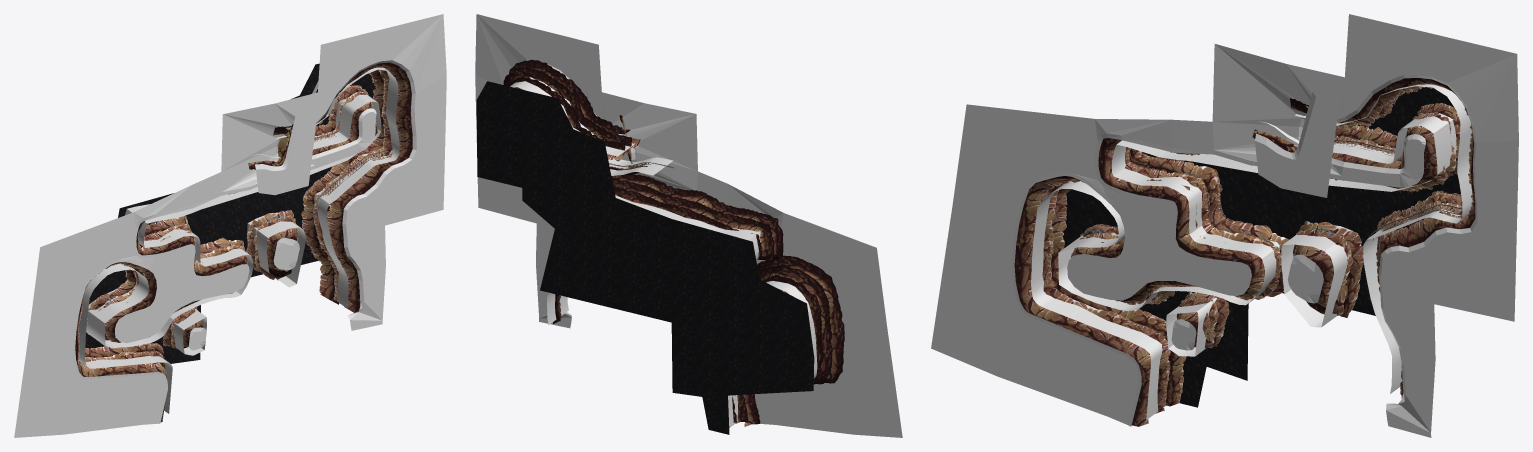
The model's file is Lvl 9 Pt 2.FBX.
3 views of the same model, side by side, from view 1: azimuth 30°, elevation 25°; view 2: azimuth 150°, elevation 25°; view 3: azimuth 330°, elevation 25° (orthographic). The views are drawn at different scales.
Visible parts, largest first — view 1: Black LVL pt 2_2, Black LVL pt 2_1, Lvl 9 Col Pt 2, BG Lvl 9 Mines Pt 2_1, Rock Pt 2_6 FG, Black LVL pt 2 Mines Ext, Rock Pt 2_6 BG, BG Lvl 9 Mines Pt 2_2, Rock Pt 2_6, Rock Pt 2_3 FG, Rock Pt 2_2 FG, Rock Pt 2_5 (+12 smaller); view 2: BG Lvl 9 Mines Pt 2_1, BG Lvl 9 Mines Pt 2_2, Black LVL pt 2_2, Black LVL pt 2_1, Lvl 9 Col Pt 2, Rock Pt 2_2 FG, Rock Pt 2_2, Rock Pt 2_3, Rock Pt 2_3 FG, Rock Pt 2_6, Rock Pt 2_6 FG, Rock Pt 2_6 BG (+6 smaller); view 3: Black LVL pt 2_2, Black LVL pt 2_1, Lvl 9 Col Pt 2, BG Lvl 9 Mines Pt 2_1, BG Lvl 9 Mines Pt 2_2, Black LVL pt 2 Mines Ext, Rock Pt 2_3 FG, Rock Pt 2_6 FG, Rock Pt 2_3 BG, Rock Pt 2_2 FG, Rock Pt 2_4 FG, Rock Pt 2_5 BG (+12 smaller).
Part boxes in pixels (x1=…): Black LVL pt 2_2: x1=14, y1=172, x2=249, y2=437; Black LVL pt 2_1: x1=221, y1=14, x2=446, y2=330; Lvl 9 Col Pt 2: x1=78, y1=67, x2=399, y2=413; BG Lvl 9 Mines Pt 2_1: x1=201, y1=63, x2=375, y2=277; Rock Pt 2_6 FG: x1=273, y1=62, x2=412, y2=312; Black LVL pt 2 Mines Ext: x1=255, y1=114, x2=316, y2=195; Rock Pt 2_6 BG: x1=301, y1=70, x2=385, y2=304; BG Lvl 9 Mines Pt 2_2: x1=85, y1=193, x2=201, y2=363; Rock Pt 2_6: x1=313, y1=69, x2=392, y2=300; Rock Pt 2_3 FG: x1=113, y1=192, x2=247, y2=342; Rock Pt 2_2 FG: x1=75, y1=262, x2=156, y2=375; Rock Pt 2_5: x1=170, y1=215, x2=295, y2=348; BG Lvl 9 Mines Pt 2_1: x1=476, y1=81, x2=671, y2=322; BG Lvl 9 Mines Pt 2_2: x1=671, y1=219, x2=814, y2=434; Black LVL pt 2_2: x1=697, y1=171, x2=902, y2=437; Black LVL pt 2_1: x1=475, y1=14, x2=697, y2=328; Lvl 9 Col Pt 2: x1=510, y1=77, x2=817, y2=427; Rock Pt 2_2 FG: x1=757, y1=255, x2=844, y2=382; Rock Pt 2_2: x1=758, y1=264, x2=832, y2=383; Rock Pt 2_3: x1=663, y1=194, x2=774, y2=261; Rock Pt 2_3 FG: x1=670, y1=188, x2=783, y2=259; Rock Pt 2_6: x1=504, y1=67, x2=631, y2=155; Rock Pt 2_6 FG: x1=503, y1=59, x2=640, y2=148; Rock Pt 2_6 BG: x1=507, y1=77, x2=625, y2=323; Black LVL pt 2_2: x1=931, y1=104, x2=1251, y2=426; Black LVL pt 2_1: x1=1212, y1=14, x2=1518, y2=437; Lvl 9 Col Pt 2: x1=1031, y1=84, x2=1472, y2=419; BG Lvl 9 Mines Pt 2_1: x1=1248, y1=87, x2=1460, y2=315; BG Lvl 9 Mines Pt 2_2: x1=1062, y1=152, x2=1248, y2=407; Black LVL pt 2 Mines Ext: x1=1255, y1=92, x2=1338, y2=197; Rock Pt 2_3 FG: x1=1098, y1=137, x2=1264, y2=304; Rock Pt 2_6 FG: x1=1290, y1=78, x2=1475, y2=398; Rock Pt 2_3 BG: x1=1129, y1=148, x2=1288, y2=304; Rock Pt 2_2 FG: x1=1014, y1=176, x2=1124, y2=312; Rock Pt 2_4 FG: x1=1028, y1=304, x2=1150, y2=426; Rock Pt 2_5 BG: x1=1185, y1=221, x2=1363, y2=346.
Bounding box in the file's own units: 13146 × 1333 × 9975.
